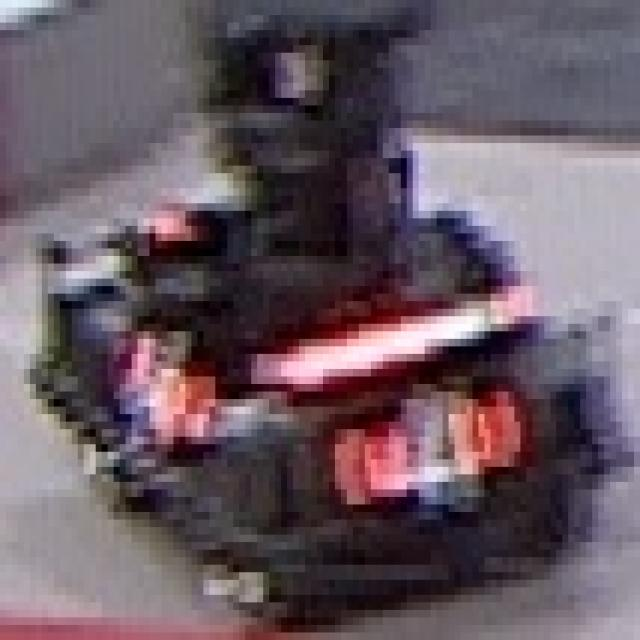R3: (332, 365, 517, 516), (81, 305, 218, 471)
